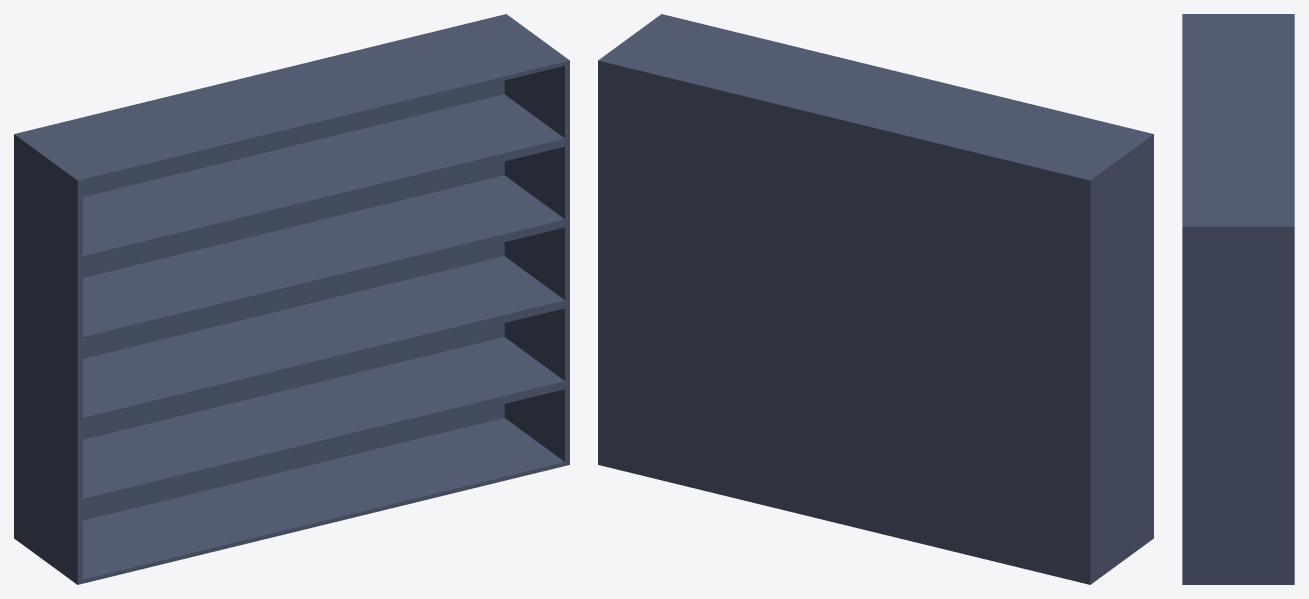
File: shelve_asset.fbx
The picture shows the model from 3 angles, left to right: view 1: azimuth 30°, elevation 25°; view 2: azimuth 150°, elevation 25°; view 3: azimuth 270°, elevation 25°; orthographic projection. The views are drawn at different scales.
Parts seen in each view (by area): view 1: shelves; view 2: shelves; view 3: shelves.
Boxes of the visible parts, <box> form: shelves: <box>14,14,569,584</box>; shelves: <box>598,14,1153,584</box>; shelves: <box>1182,14,1294,584</box>.
Size of the model in its own units: 894 by 702 by 200.
